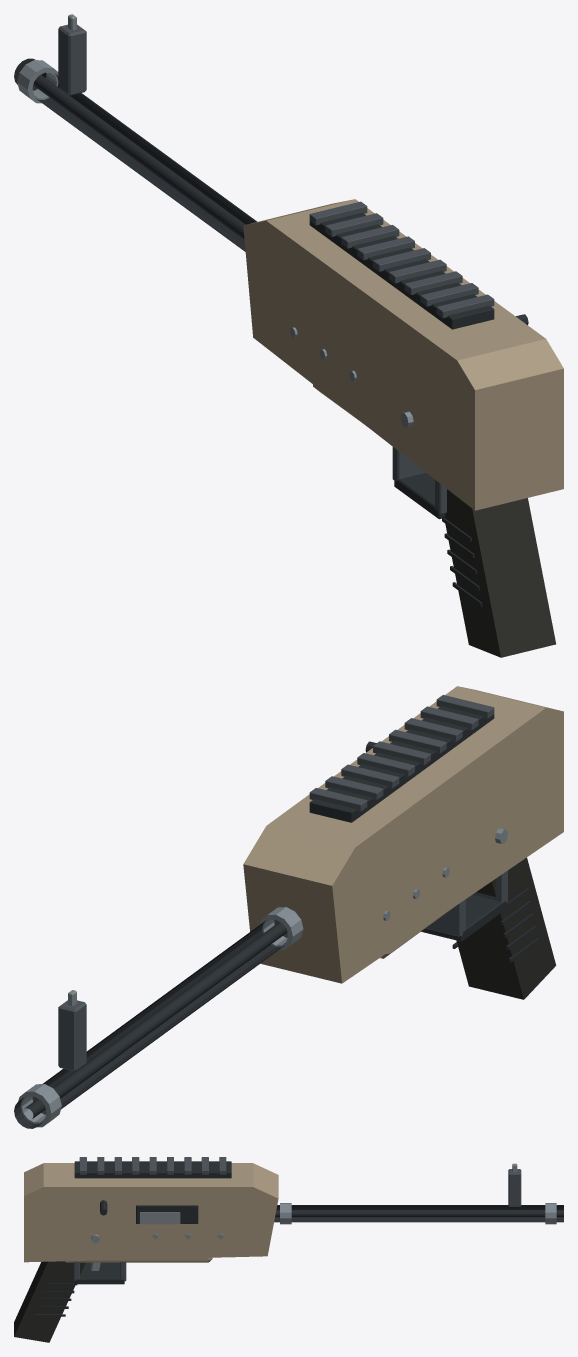
The model's file is weapon_cedar545.glb.
3 views of the same model, one above another, from view 1: azimuth 30°, elevation 25°; view 2: azimuth 150°, elevation 25°; view 3: azimuth 270°, elevation 25° (orthographic). The views are drawn at different scales.
Visible parts, largest first — view 1: Geometry_weapon_cedar545; view 2: Geometry_weapon_cedar545; view 3: Geometry_weapon_cedar545.
Part boxes in pixels (x1,y1,x2,y2): Geometry_weapon_cedar545: [14, 14, 563, 657]; Geometry_weapon_cedar545: [14, 686, 563, 1128]; Geometry_weapon_cedar545: [14, 1157, 563, 1342].
Size of the model in its own units: 0.1123 by 0.262 by 0.761.
